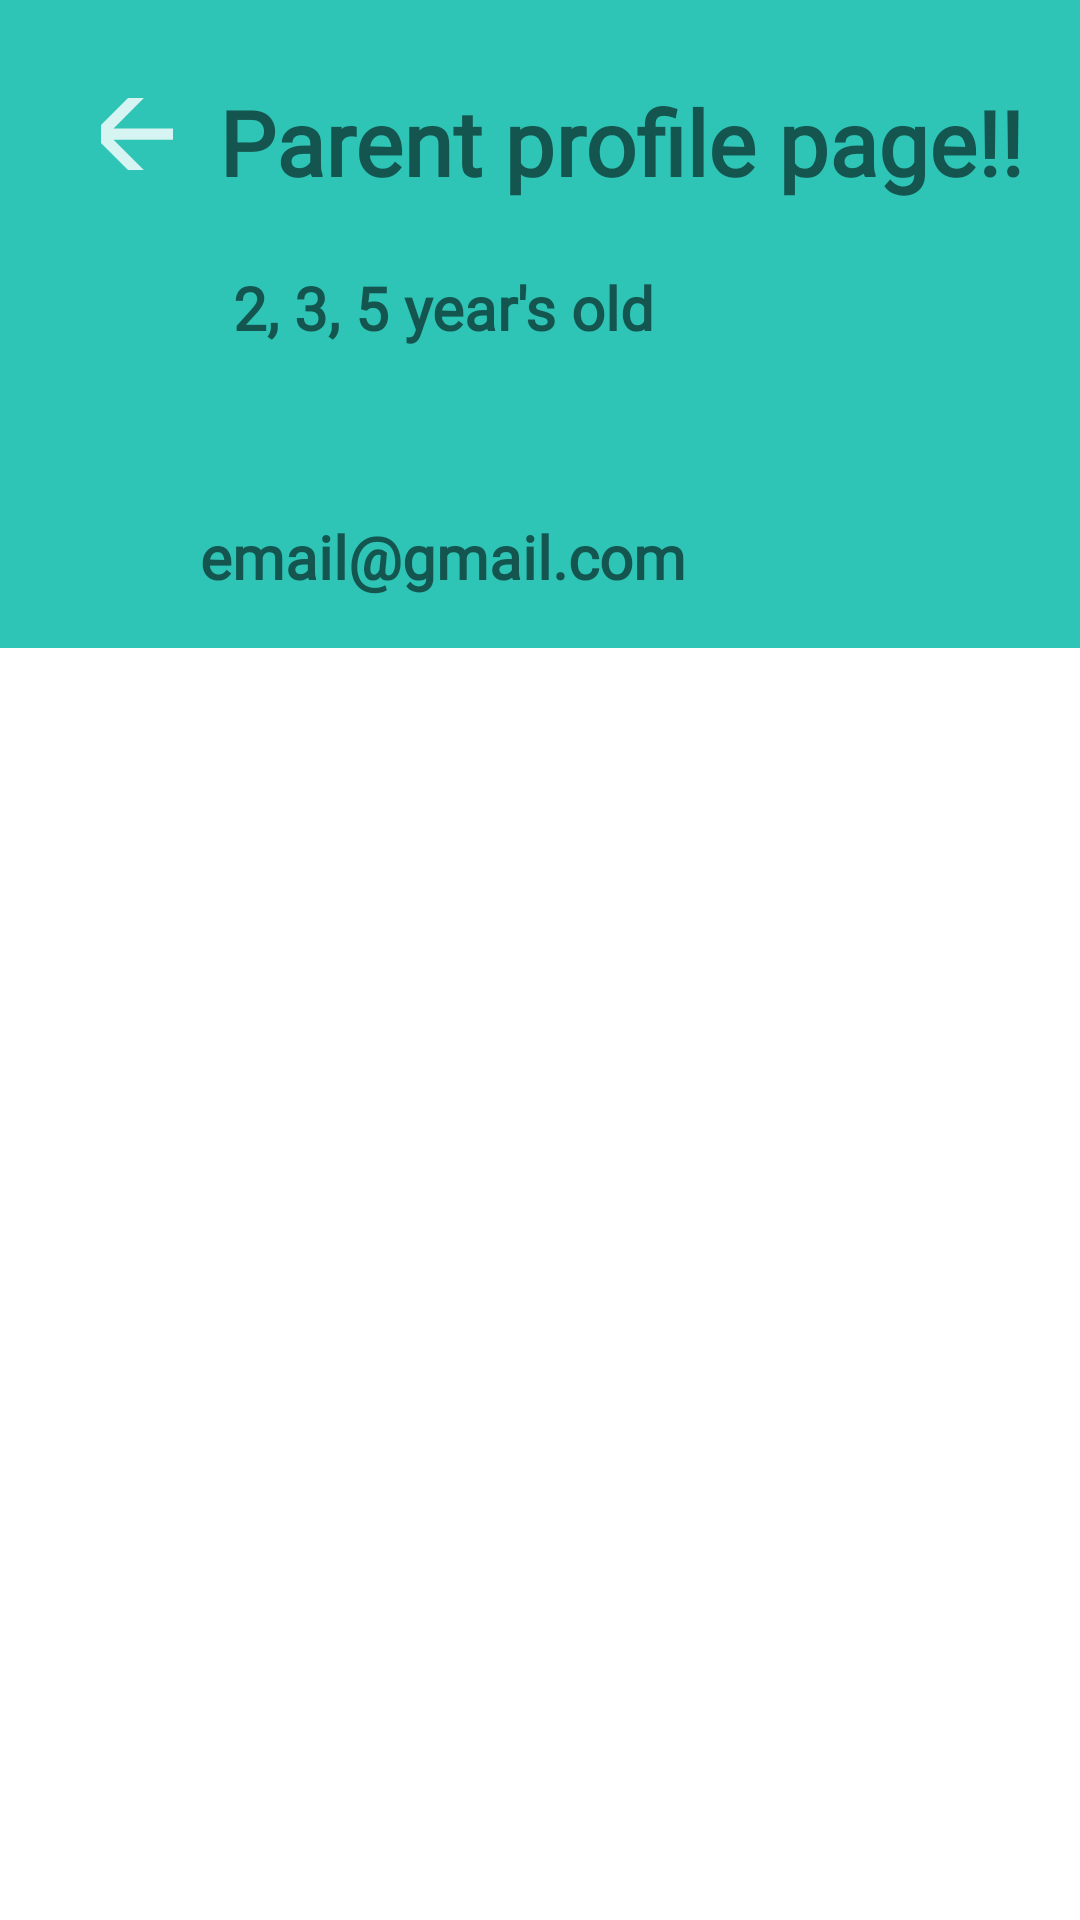

Point at icon controls on the screen. Image size 1080*1920, points as (x=x, y=y).
back: (x=137, y=134)
